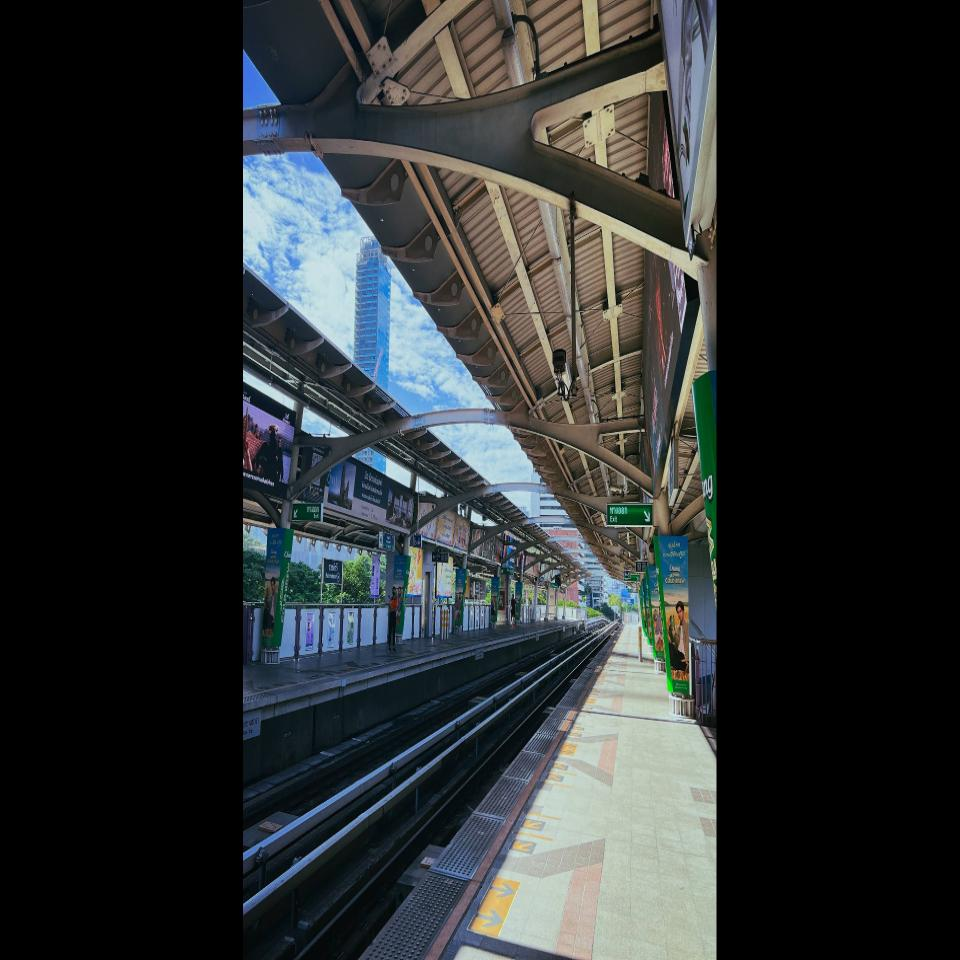signage: (322, 558, 343, 586)
